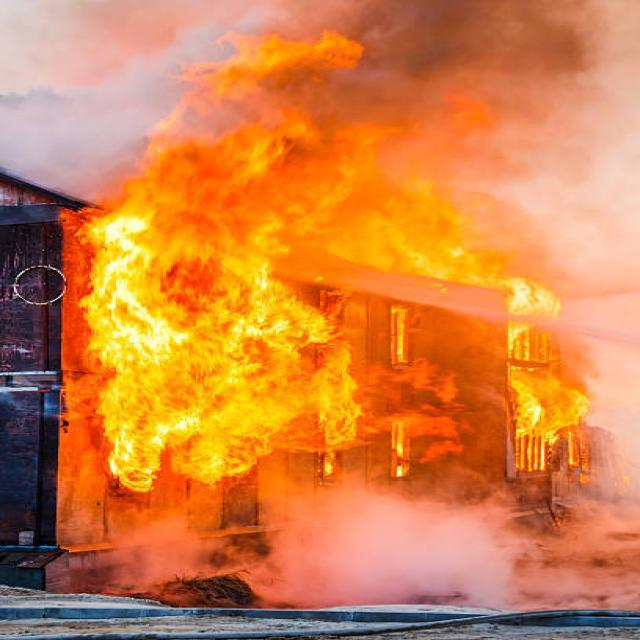Fire: (73, 28, 583, 474)
Smoke: (65, 482, 586, 614), (300, 0, 618, 174)
